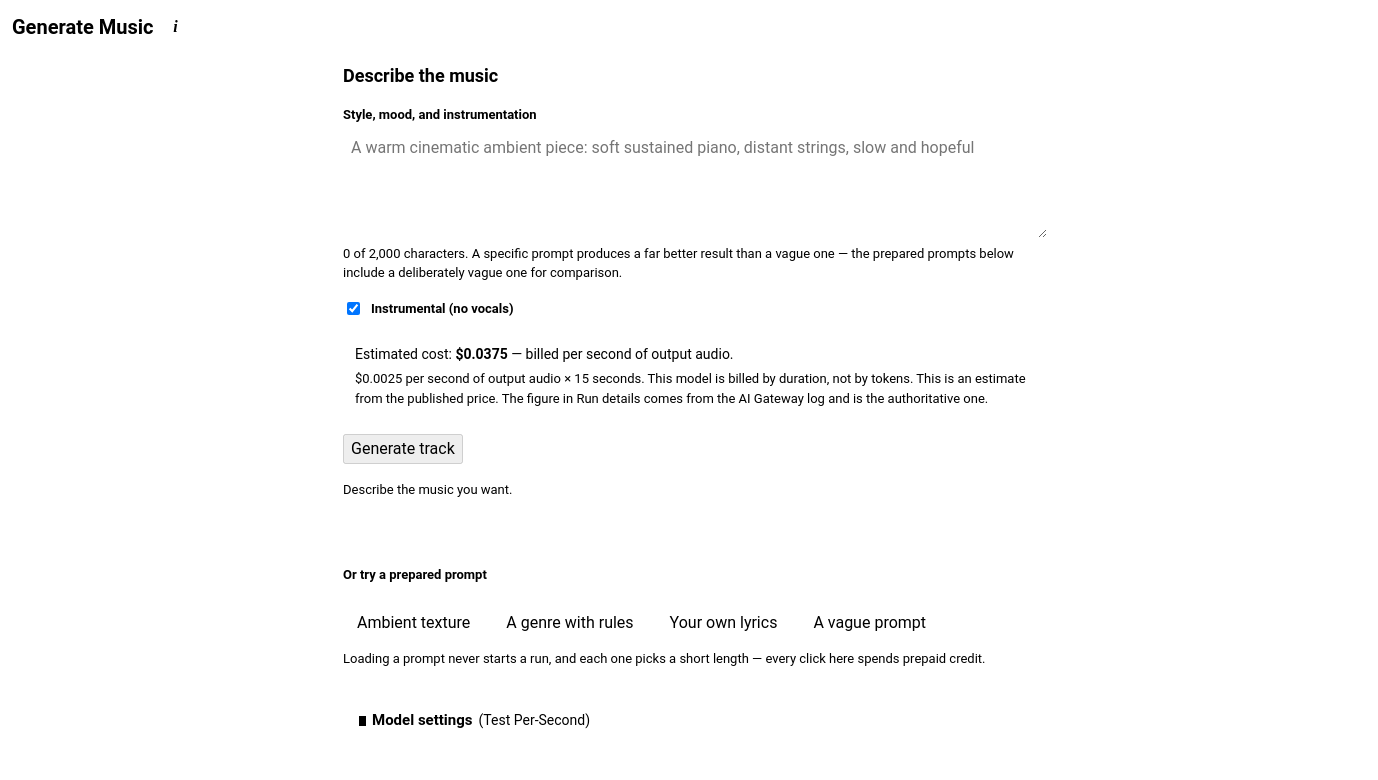
Test: submitting the panel › says that stopping the wait does not stop the charge
Replace the text in the text box with id "music-prompt" with "ambient piano". click: (695, 184)
box: [343, 130, 1047, 238]
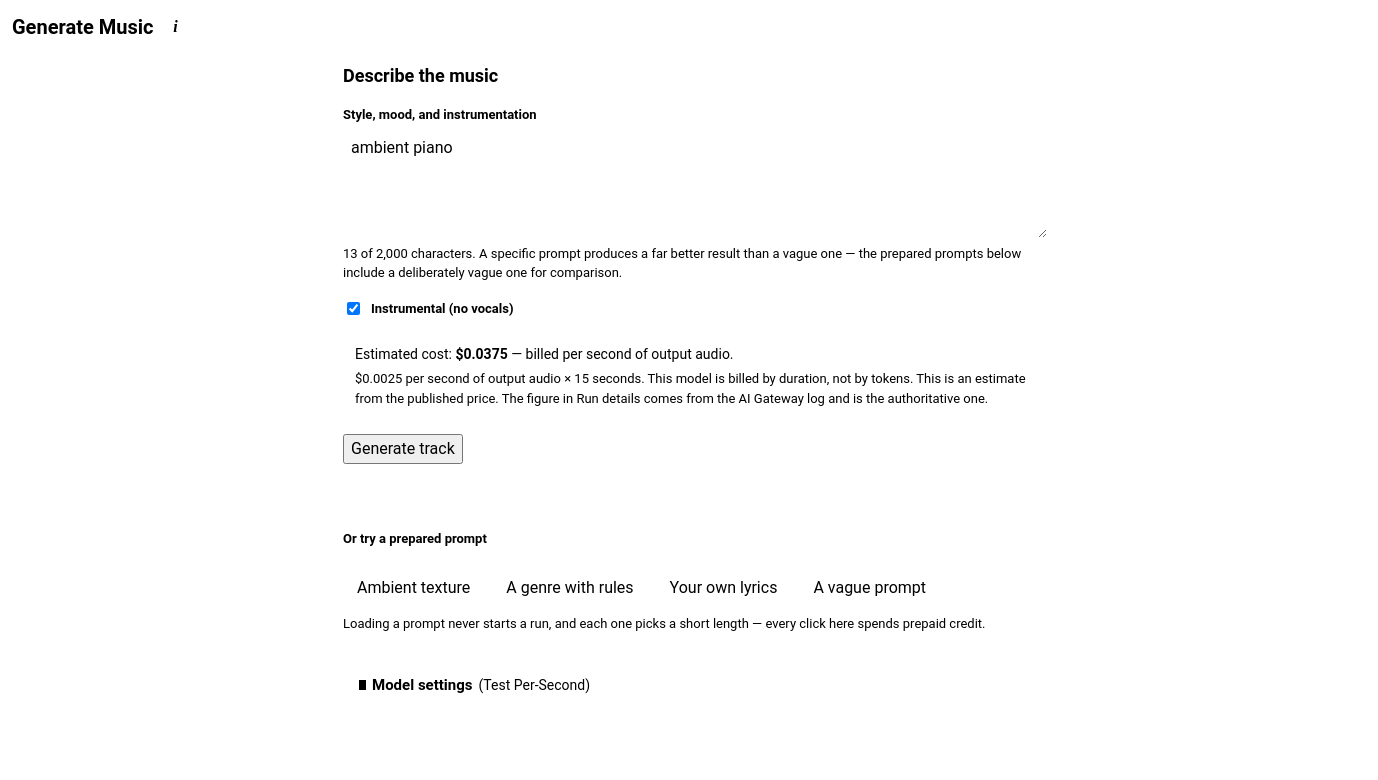
Click the button with class "generate-button". click: (403, 449)
box: [343, 434, 463, 464]
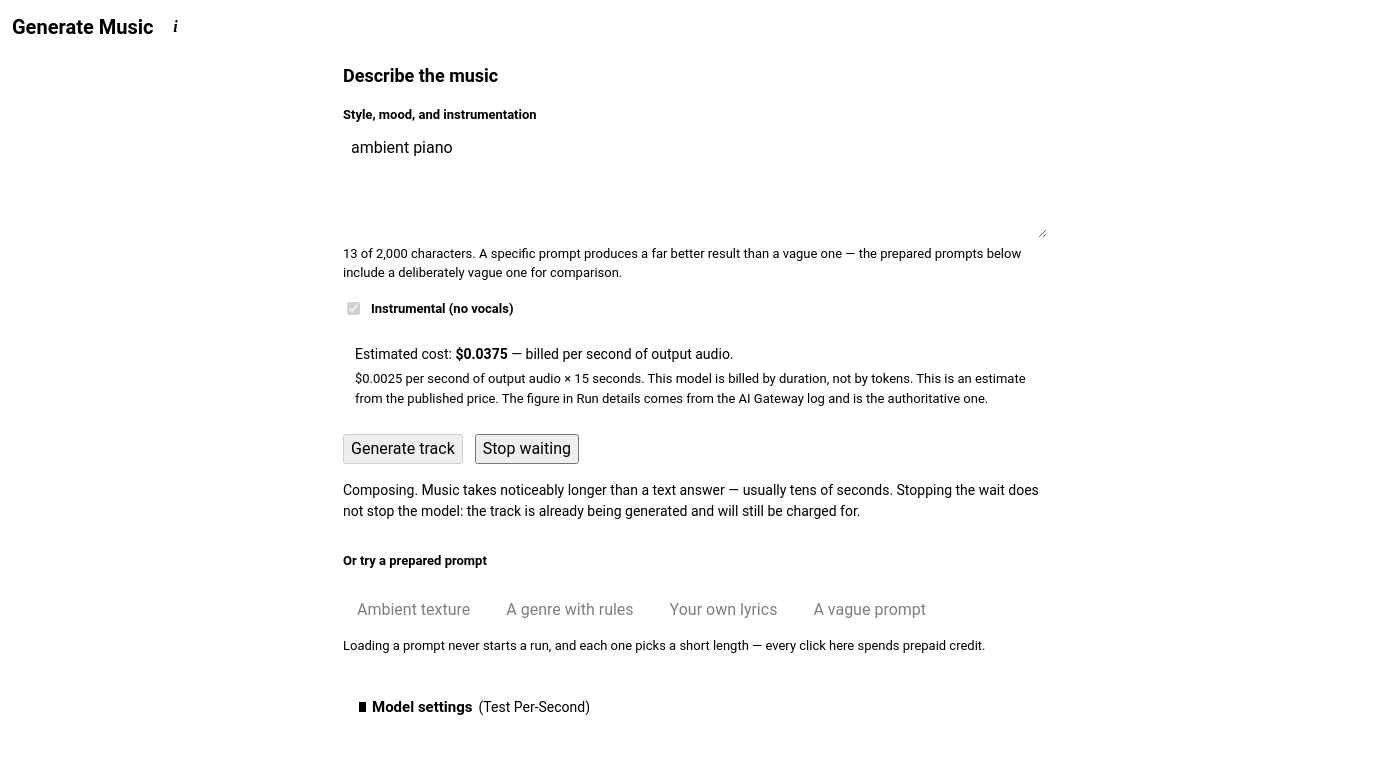
Check: the text "takes noticeably longer" is shown, box [343, 482, 1039, 519]
Check: the text "will still be charged for" is shown, box [343, 482, 1039, 519]
Check: the button with class "cancel-button" is shown, box [475, 434, 579, 464]
